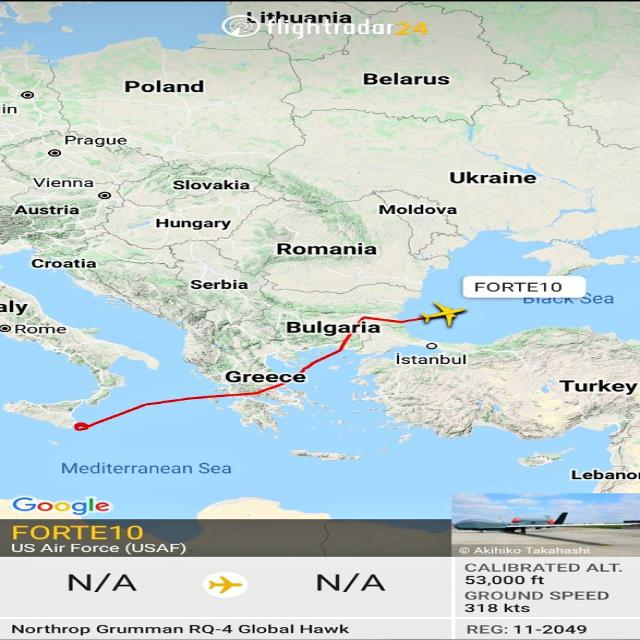MIL_Plane: (453, 511, 640, 534)
